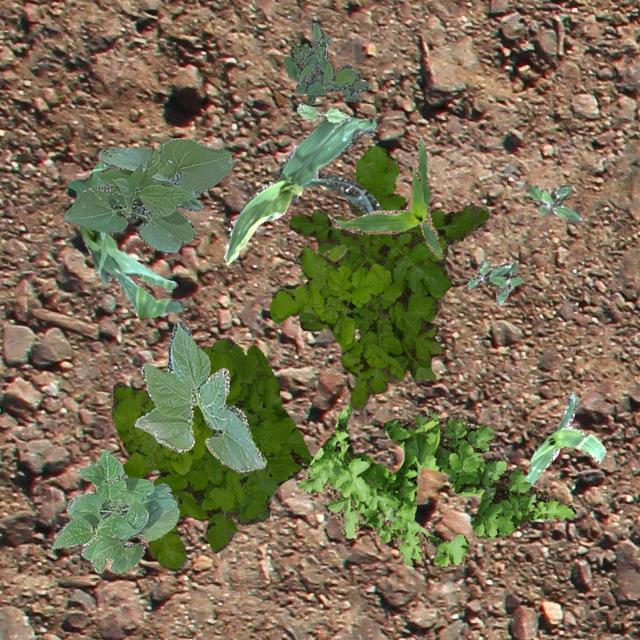crop: (223, 116, 379, 264), (132, 322, 266, 472), (61, 136, 232, 252), (68, 160, 184, 318), (50, 448, 178, 572), (330, 136, 442, 258), (524, 392, 604, 486), (296, 102, 350, 121)
weed: (110, 336, 310, 570), (289, 144, 487, 378), (296, 404, 576, 566), (268, 243, 402, 410), (282, 21, 370, 104), (464, 260, 522, 304), (528, 184, 580, 222), (300, 244, 346, 278), (288, 38, 308, 62)
